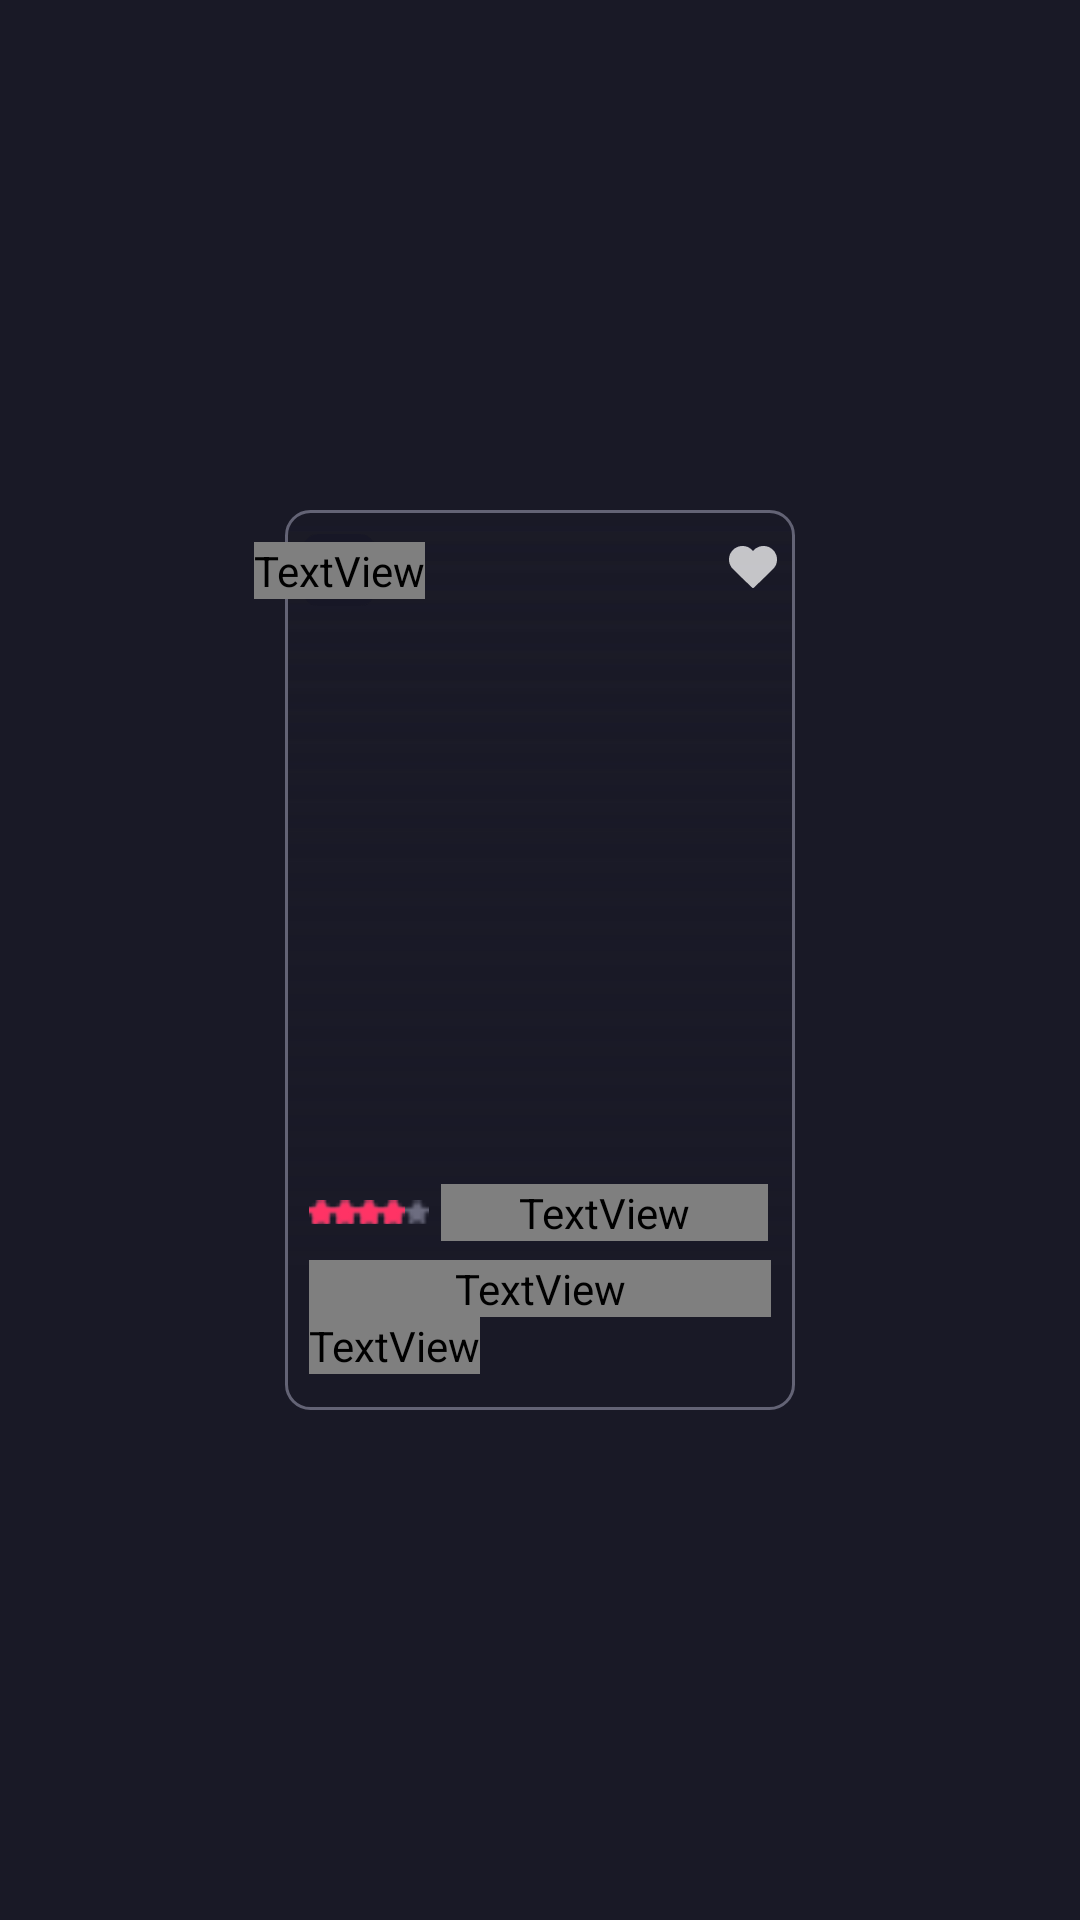

Icon bounding boxes for this 1080×1920 phone screenshot, format (x1, y1, x2, y2):
like photo: (729, 546, 777, 588)
